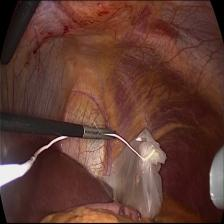Grasper: (82, 124, 118, 146)
Specimen Bag: (108, 124, 167, 222)
